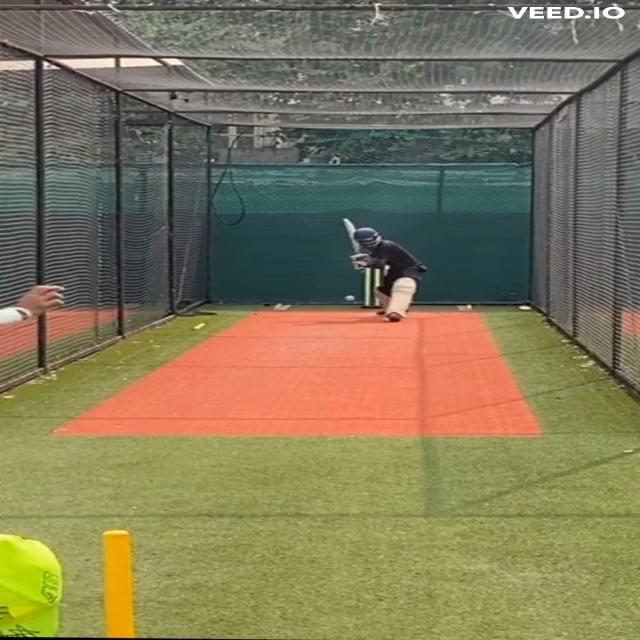ball: (343, 294, 356, 303)
stump: (363, 266, 383, 308)
